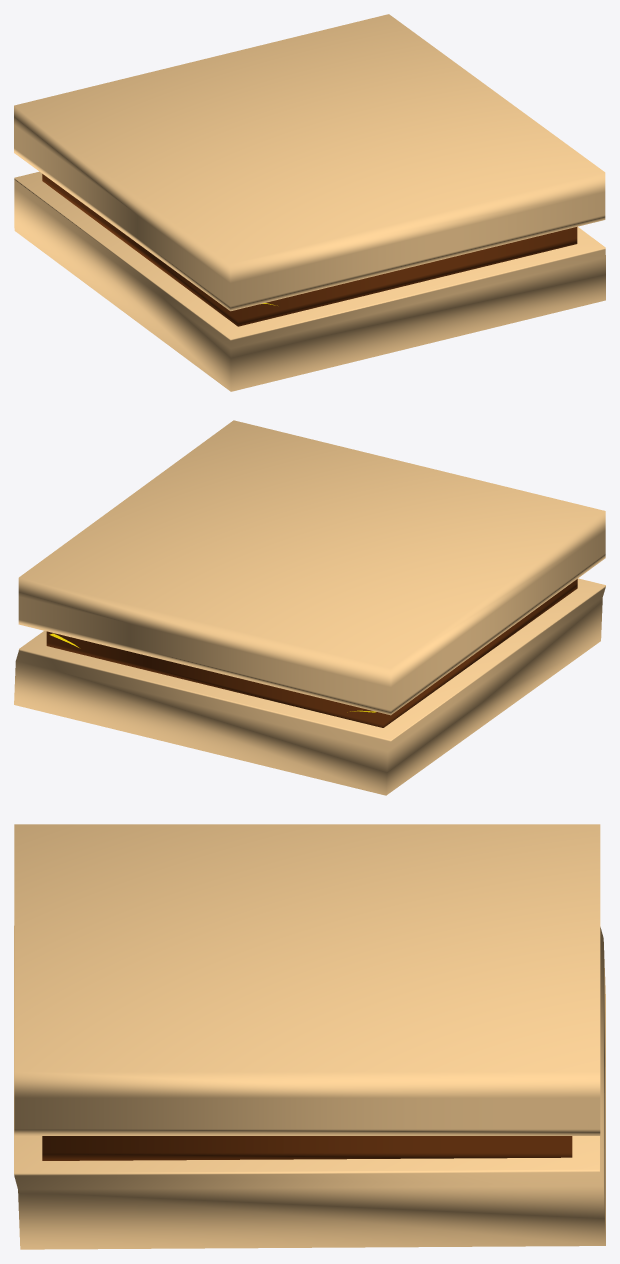
The model's file is burg2.glb.
3 renders of one model, top to bottom at view 1: azimuth 30°, elevation 25°; view 2: azimuth 150°, elevation 25°; view 3: azimuth 270°, elevation 25°, orthographic. The views are drawn at different scales.
Visible parts, largest first — view 1: Cube, Cube.002, Cube.001; view 2: Cube, Cube.002, Cube.001; view 3: Cube, Cube.002, Cube.001.
Boxes of the visible parts, x1=… form: Cube: x1=14, y1=14, x2=605, y2=311; Cube.002: x1=14, y1=171, x2=605, y2=391; Cube.001: x1=42, y1=174, x2=577, y2=326; Cube: x1=18, y1=420, x2=605, y2=715; Cube.002: x1=14, y1=578, x2=605, y2=795; Cube.001: x1=46, y1=579, x2=577, y2=727; Cube: x1=14, y1=824, x2=600, y2=1135; Cube.002: x1=14, y1=926, x2=605, y2=1249; Cube.001: x1=42, y1=1136, x2=572, y2=1160.
Bounding box in the file's own units: 9.86 × 3.25 × 9.9.
